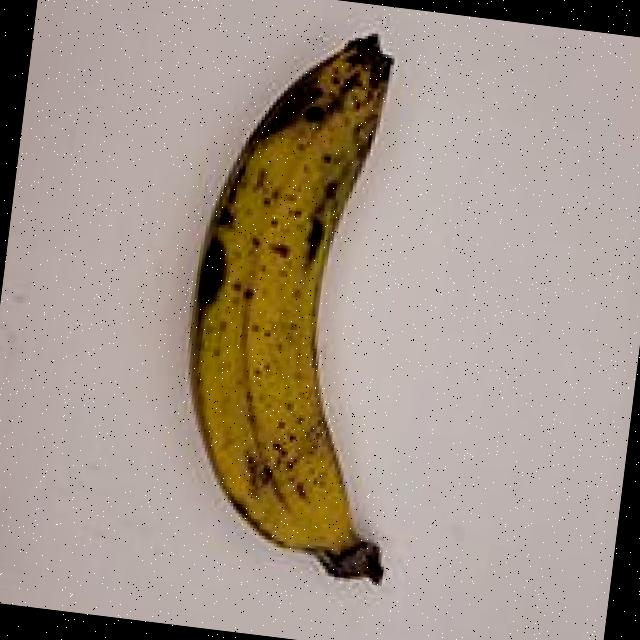Overripe: (90, 0, 508, 640)
